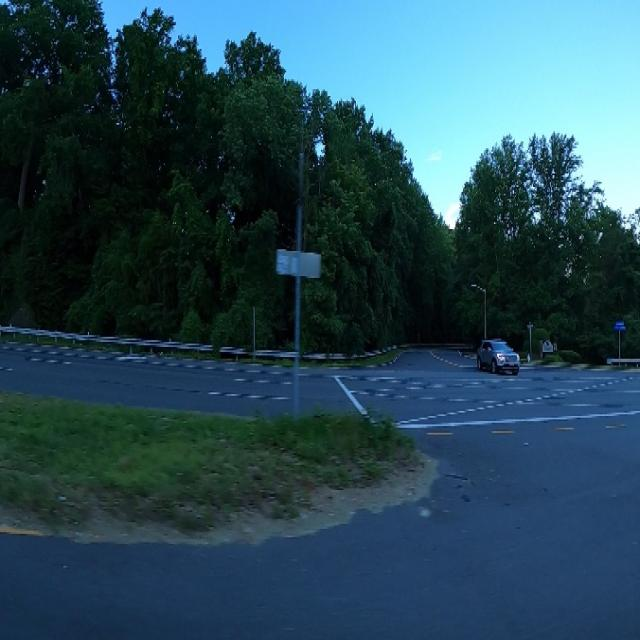cars: (475, 333, 521, 378)
